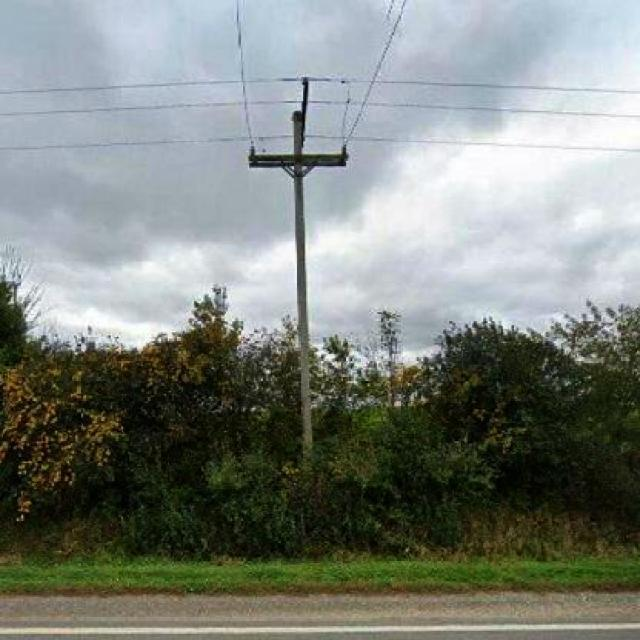crossarm: (249, 154, 348, 170)
pole: (291, 116, 316, 472)
wire: (0, 76, 639, 96), (0, 99, 639, 119), (1, 133, 640, 153), (342, 1, 409, 162), (234, 1, 256, 156)
